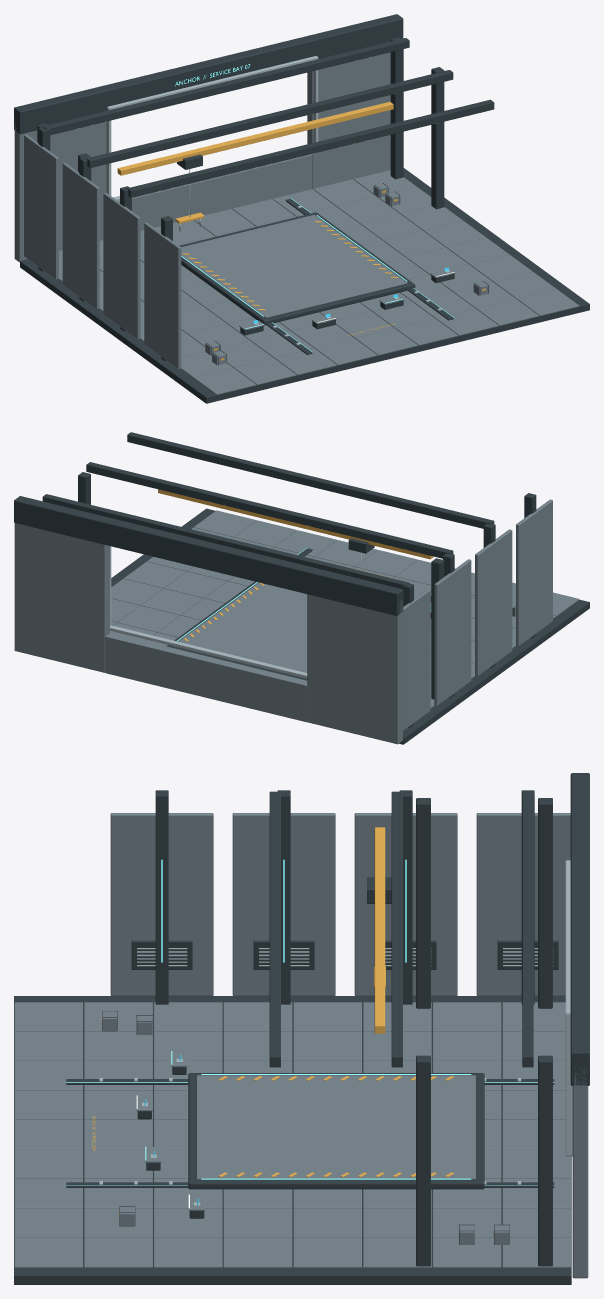
Rendered from hangar_environment.glb.
The picture shows the model from 3 angles, top to bottom: view 1: azimuth 30°, elevation 25°; view 2: azimuth 150°, elevation 25°; view 3: azimuth 270°, elevation 25°; orthographic projection. The views are drawn at different scales.
Visible parts, largest first — view 1: Hangar_Brushed_Metal, Hangar_Recess_Metal, Hangar_Safety_Amber, Hangar_Trim_Metal, Hangar_Light_Cyan; view 2: Hangar_Brushed_Metal, Hangar_Recess_Metal, Hangar_Trim_Metal, Hangar_Safety_Amber; view 3: Hangar_Brushed_Metal, Hangar_Recess_Metal, Hangar_Trim_Metal, Hangar_Safety_Amber, Hangar_Light_Cyan.
Boxes of the visible parts, x1,y1,x2,y2 form: Hangar_Brushed_Metal: (14, 52, 579, 394); Hangar_Recess_Metal: (14, 14, 589, 403); Hangar_Safety_Amber: (117, 102, 485, 360); Hangar_Trim_Metal: (106, 56, 450, 345); Hangar_Light_Cyan: (175, 64, 453, 352); Hangar_Brushed_Metal: (14, 499, 579, 744); Hangar_Recess_Metal: (14, 432, 589, 744); Hangar_Trim_Metal: (109, 546, 431, 678); Hangar_Safety_Amber: (158, 489, 433, 641); Hangar_Brushed_Metal: (14, 813, 588, 1278); Hangar_Recess_Metal: (14, 773, 589, 1284); Hangar_Trim_Metal: (99, 860, 572, 1206); Hangar_Safety_Amber: (92, 827, 493, 1236); Hangar_Light_Cyan: (66, 859, 554, 1185).
Size of the model in its own units: 76 by 29.45 by 66.1.
